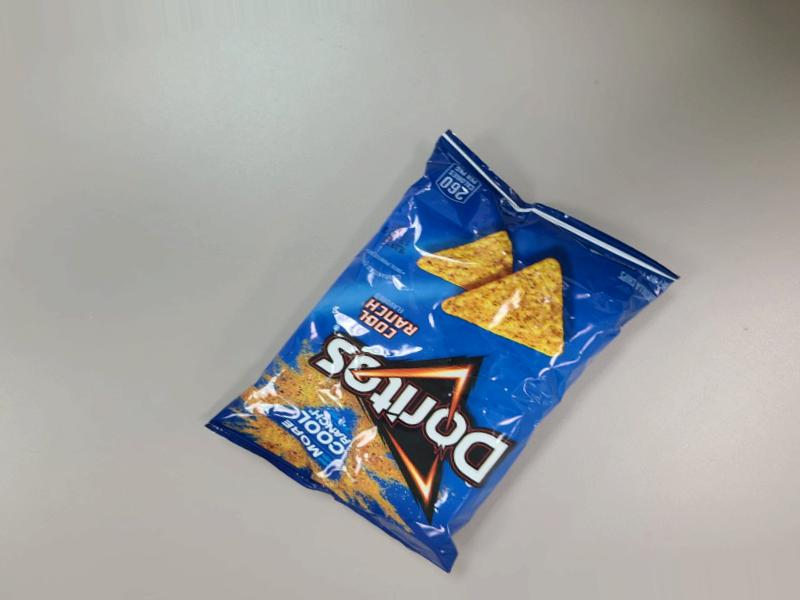doritos: (280, 231, 736, 592)
